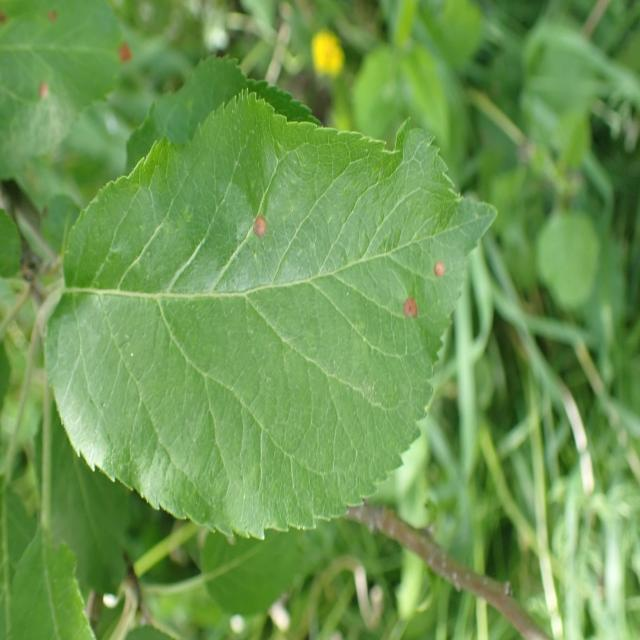frog-eye-leaf-spot: (44, 90, 499, 538)
